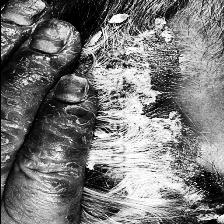Non-Cancerous Skin Condition: (51, 18, 224, 224)
